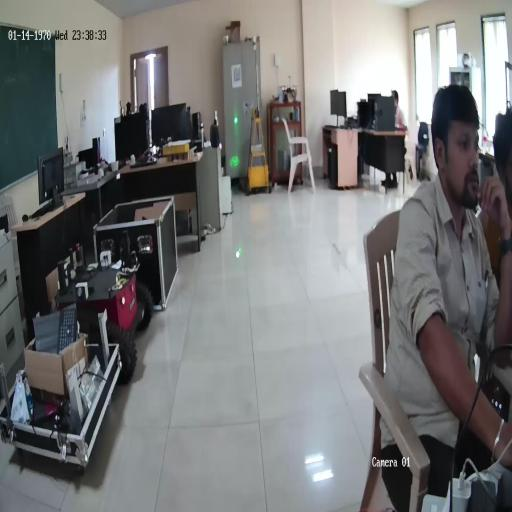laser: (231, 113, 240, 126)
